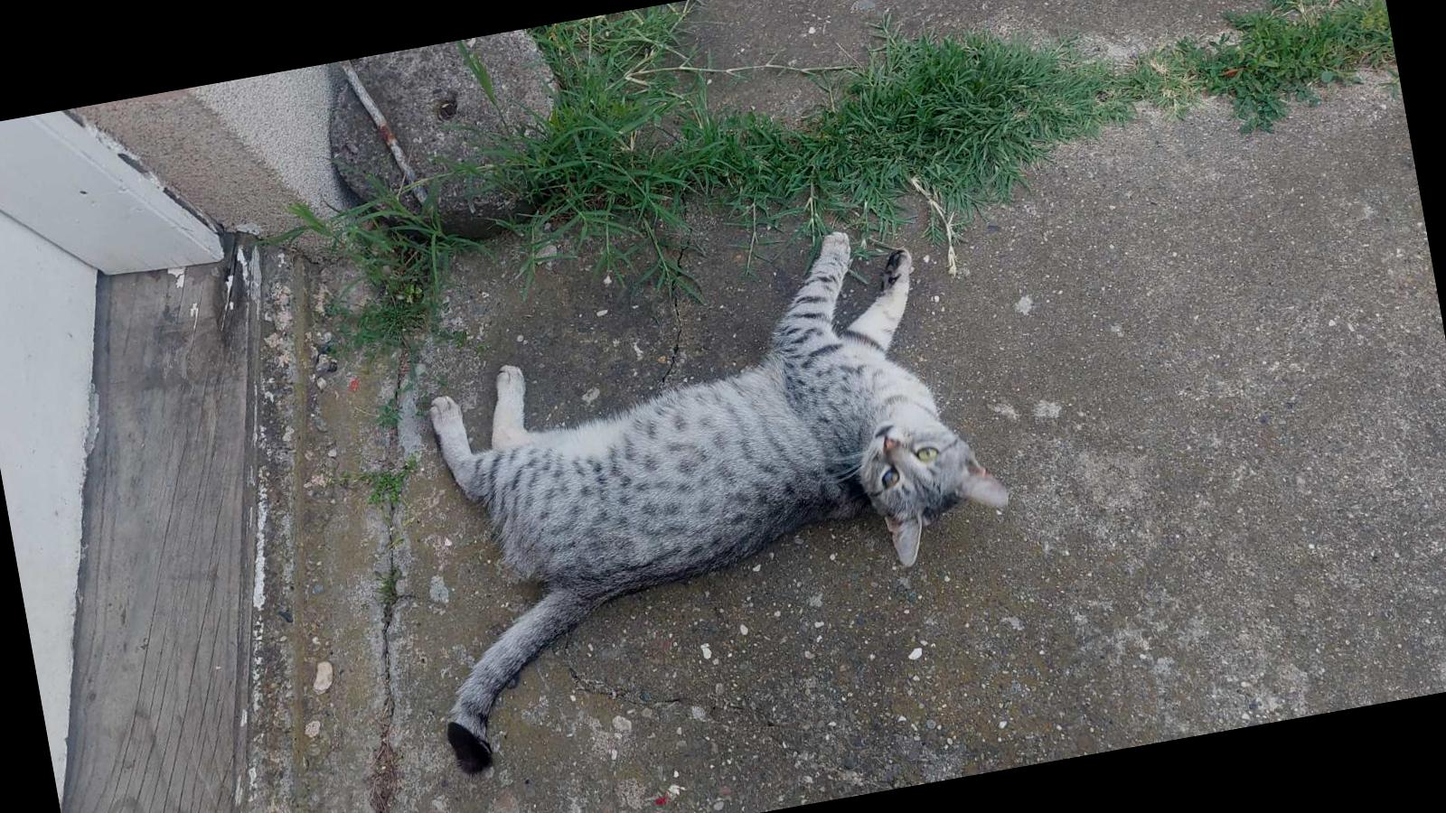macka: (373, 206, 1042, 776)
